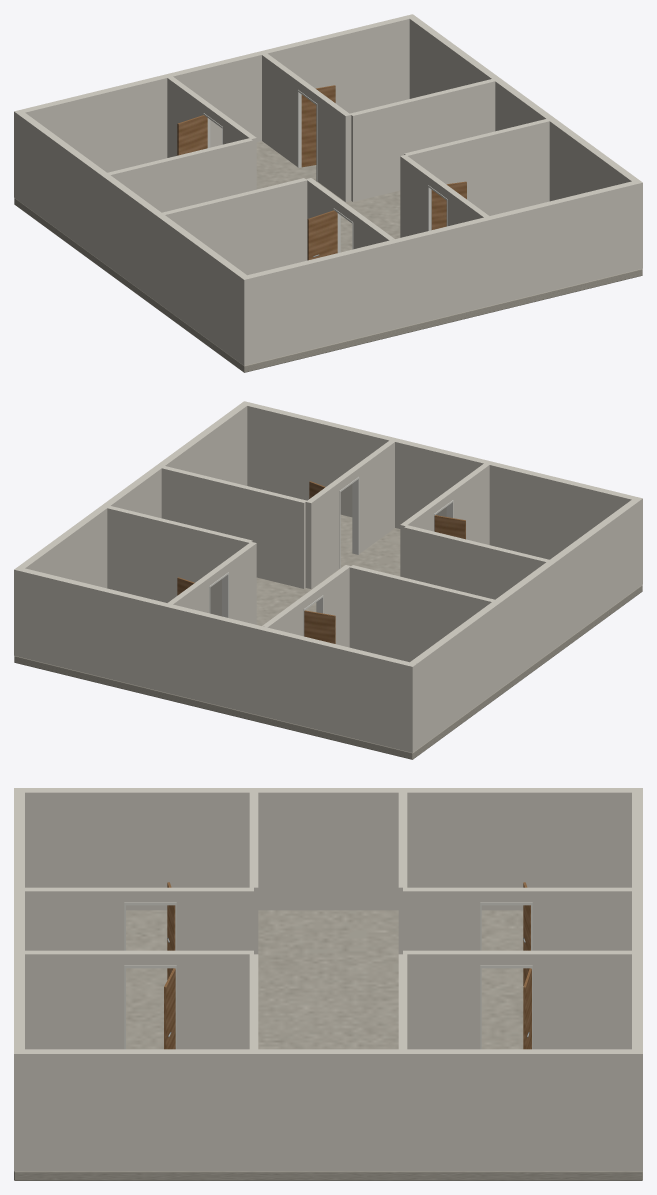
The model's file is clinic-shell.glb.
3 views of the same model, one above another, from view 1: azimuth 30°, elevation 25°; view 2: azimuth 150°, elevation 25°; view 3: azimuth 270°, elevation 25° (orthographic). The views are drawn at different scales.
Visible parts, largest first — view 1: South elevation, North elevation, West elevation, East elevation, Review cross partition, Reception cross partition, Consultation cross partition, Exam_Floor, Follow cross partition, Review corridor pier, Review corridor pier.001, Cube.025 (×2) (+7 smaller); view 2: North elevation, South elevation, West elevation, East elevation, Consultation cross partition, Review cross partition, Follow cross partition, Exam_Floor, Reception cross partition, Consultation corridor pier.001, Consultation corridor pier, Reception corridor pier.001 (+8 smaller); view 3: East elevation, West elevation, Exam_Floor, Consultation corridor pier.001, Review corridor pier, Consultation corridor pier, Review corridor pier.001, Reception corridor pier.001, Follow corridor pier, Reception corridor pier, Follow corridor pier.001, North elevation (+11 smaller).
Boxes of the visible parts, x1=… form: South elevation: x1=240, y1=179, x2=642, y2=365; North elevation: x1=14, y1=14, x2=415, y2=199; West elevation: x1=18, y1=112, x2=246, y2=362; East elevation: x1=409, y1=17, x2=638, y2=201; Review cross partition: x1=350, y1=79, x2=495, y2=201; Reception cross partition: x1=162, y1=178, x2=307, y2=275; Consultation cross partition: x1=404, y1=119, x2=549, y2=215; Exam_Floor: x1=14, y1=141, x2=642, y2=372; Follow cross partition: x1=107, y1=138, x2=252, y2=212; Review corridor pier: x1=262, y1=53, x2=303, y2=166; Review corridor pier.001: x1=317, y1=94, x2=351, y2=201; Cube.025 (×2): x1=177, y1=85, x2=335, y2=167; North elevation: x1=14, y1=566, x2=416, y2=752; South elevation: x1=241, y1=401, x2=642, y2=586; West elevation: x1=410, y1=499, x2=638, y2=749; East elevation: x1=18, y1=404, x2=247, y2=588; Consultation cross partition: x1=161, y1=466, x2=306, y2=588; Review cross partition: x1=107, y1=506, x2=252, y2=616; Follow cross partition: x1=349, y1=565, x2=494, y2=662; Exam_Floor: x1=14, y1=514, x2=642, y2=759; Reception cross partition: x1=404, y1=525, x2=549, y2=599; Consultation corridor pier.001: x1=353, y1=440, x2=394, y2=553; Consultation corridor pier: x1=305, y1=481, x2=339, y2=588; Reception corridor pier.001: x1=448, y1=463, x2=489, y2=544; East elevation: x1=25, y1=1049, x2=631, y2=1171; West elevation: x1=25, y1=788, x2=631, y2=910; Exam_Floor: x1=14, y1=910, x2=642, y2=1180; Consultation corridor pier.001: x1=25, y1=950, x2=124, y2=1049; Review corridor pier: x1=532, y1=950, x2=631, y2=1049; Consultation corridor pier: x1=176, y1=950, x2=253, y2=1049; Review corridor pier.001: x1=403, y1=950, x2=480, y2=1049; Reception corridor pier.001: x1=25, y1=887, x2=124, y2=950; Follow corridor pier: x1=532, y1=887, x2=631, y2=950; Reception corridor pier: x1=176, y1=887, x2=253, y2=950; Follow corridor pier.001: x1=403, y1=887, x2=480, y2=950; North elevation: x1=632, y1=788, x2=642, y2=1171.
Bounding box in the file's own units: 11.4 × 2.55 × 11.4.
Materials: 5 (2 with a texture image).
